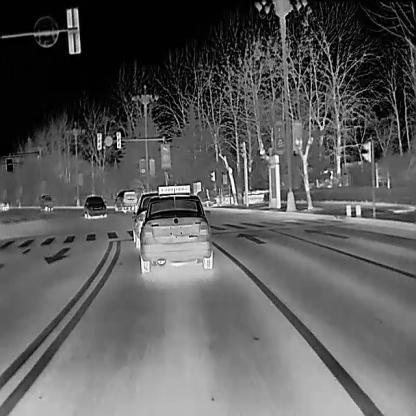car: (138, 183, 212, 273), (131, 190, 159, 250), (83, 195, 106, 219), (114, 190, 137, 212), (38, 194, 53, 210)
